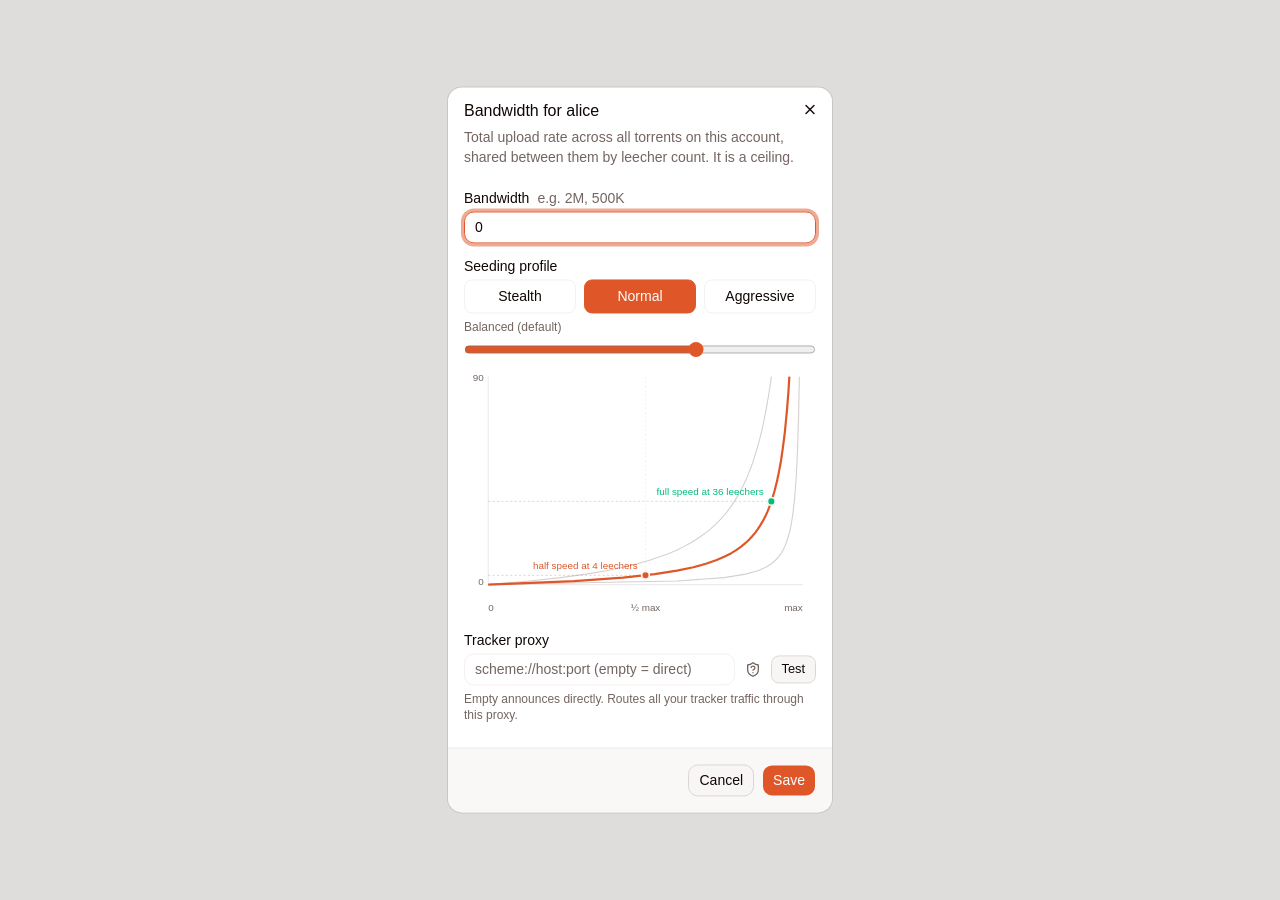
Test: BandwidthDialog seeding profile slider › clicking a preset moves the slider to the correctly inverted position
This screenshot has width=1280, height=900.
Click the button "Stealth".
click(520, 296)  # box [464, 280, 576, 314]
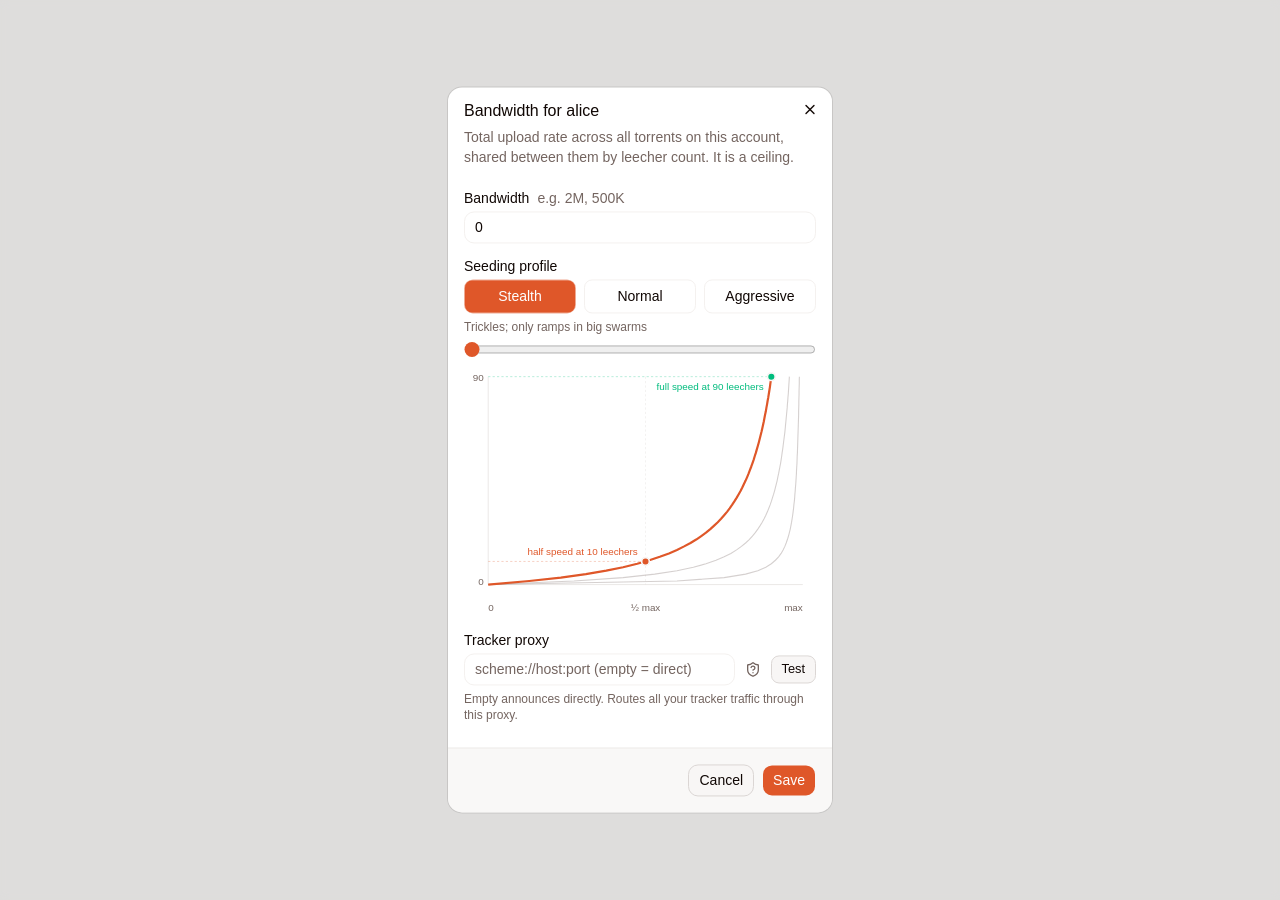
expect the slider named "Seeding aggressiveness" holds "1": met, box [464, 342, 816, 358]
Click the button "Aggressive".
click(760, 296)  # box [704, 280, 816, 314]
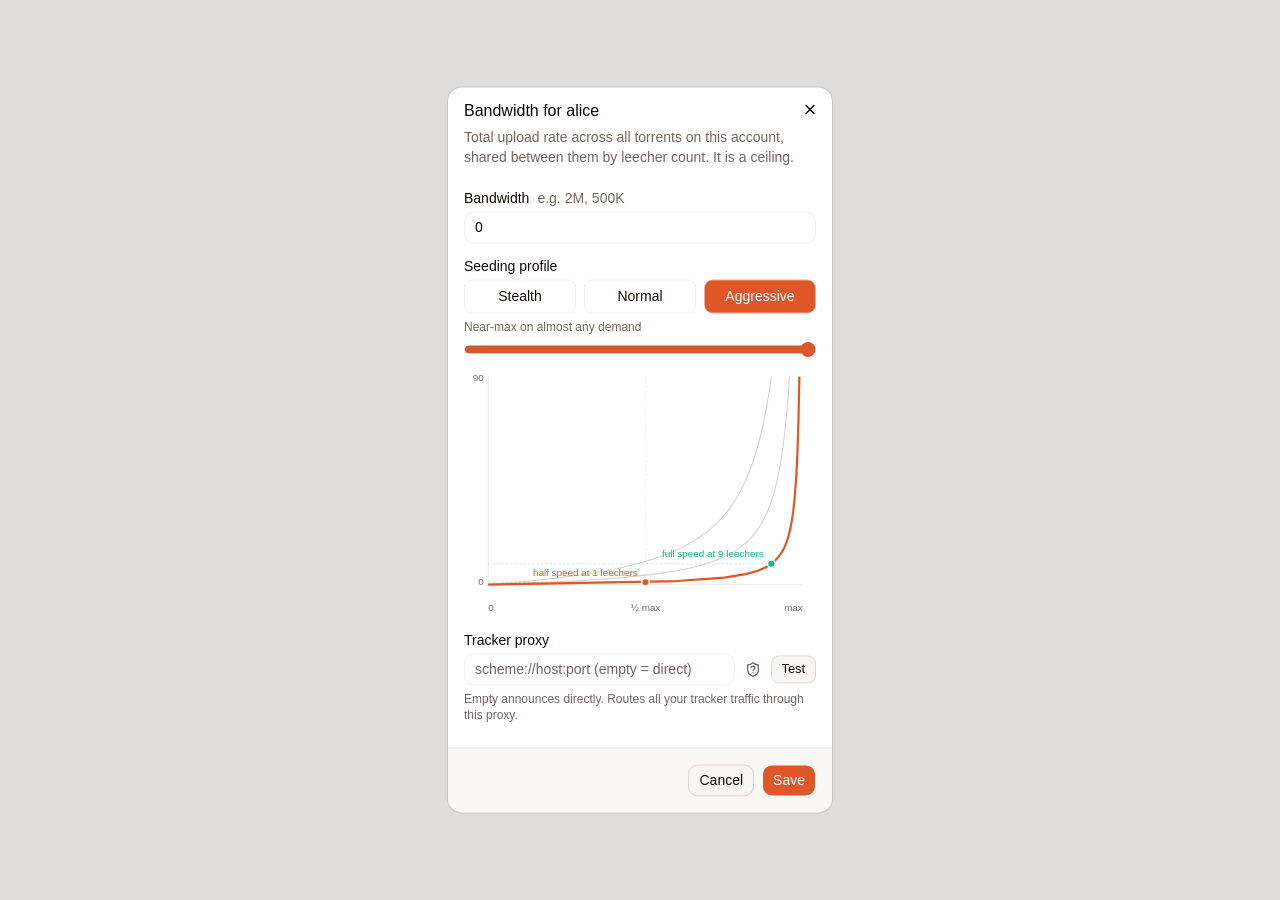
expect the slider named "Seeding aggressiveness" holds "10": met, box [464, 342, 816, 358]
